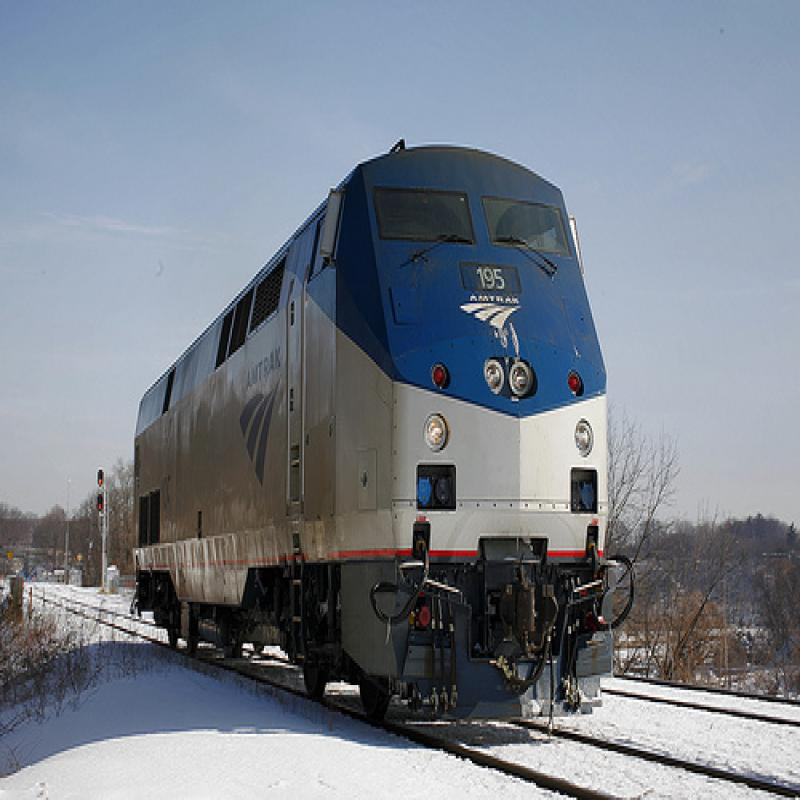train: (131, 146, 636, 748)
